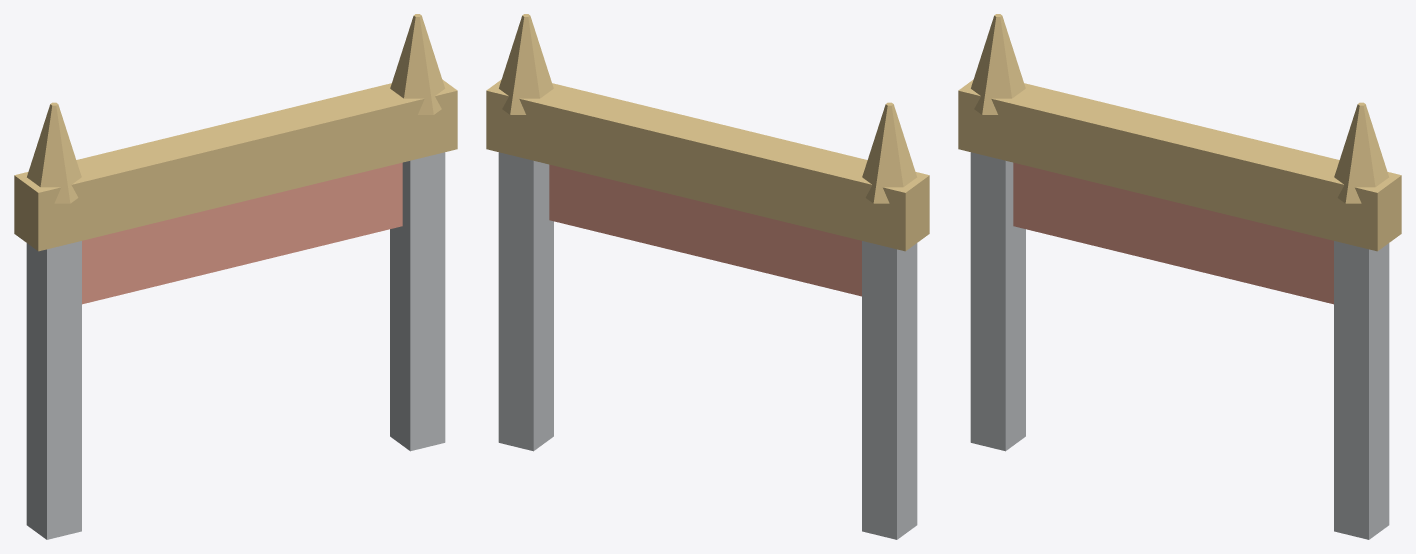
Rendered from finish_gate.glb.
The picture shows the model from 3 angles, left to right: view 1: azimuth 30°, elevation 25°; view 2: azimuth 150°, elevation 25°; view 3: azimuth 330°, elevation 25°; orthographic projection.
Parts seen in each view (by area): view 1: finish_gate; view 2: finish_gate; view 3: finish_gate.
Part boxes in pixels (bbox=[...]): finish_gate: bbox=[14, 14, 457, 539]; finish_gate: bbox=[486, 14, 929, 539]; finish_gate: bbox=[958, 14, 1401, 539].
Bounding box in the file's own units: 6 × 5.8 × 0.8.
